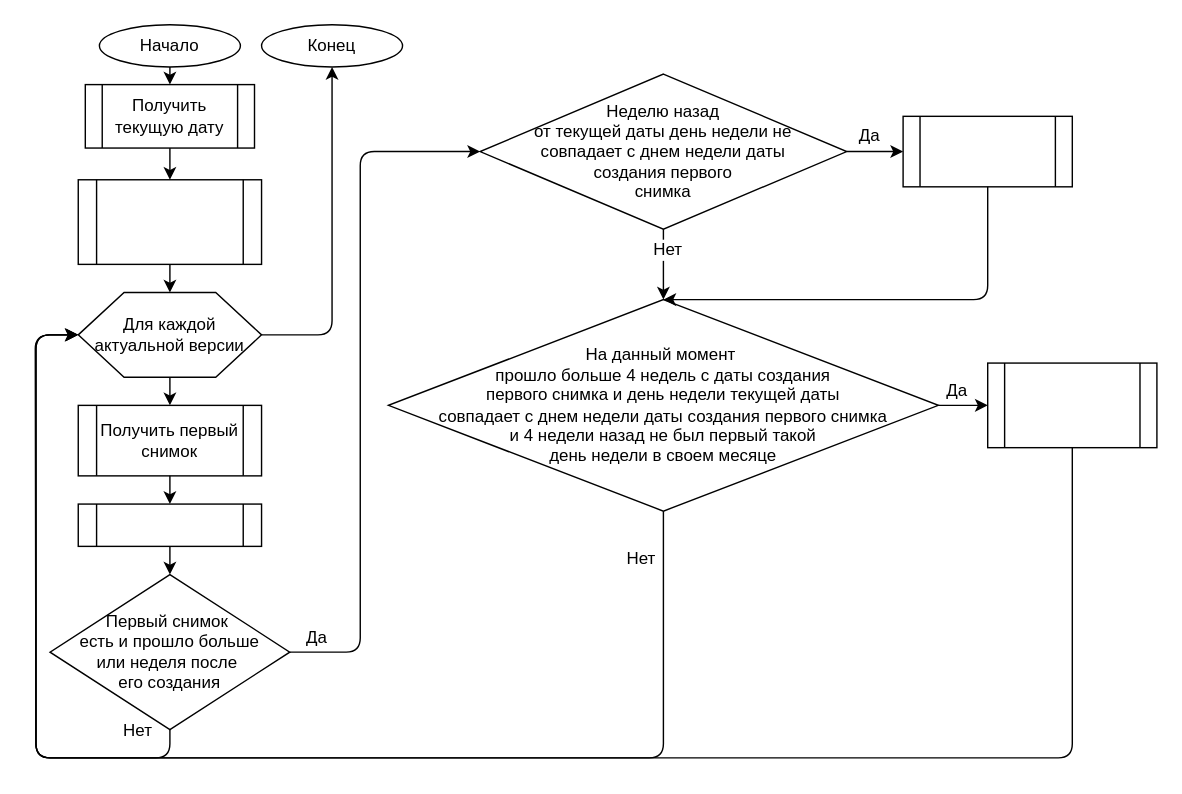
Image size: 1182x794. Some labels were removed from this diagram. The shapes that lost their labels are listed below. From the top down, each one's centre as x and y in pixels, then its label:
At point (987, 151): "Удалить снимок, созданный неделю назад".
At point (169, 221): "Получить актуальные версии всех планов".
At point (1071, 405): "Удалить снимок, созданный 4 недели назад".
At point (169, 524): "Создать снимок".
